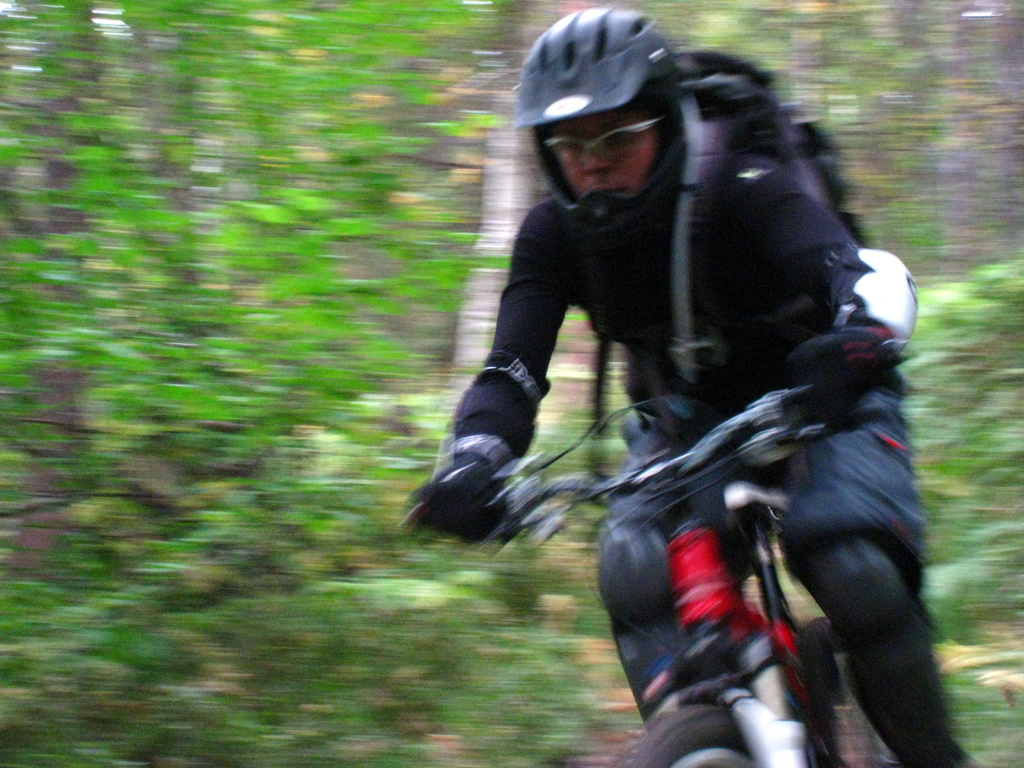Person: (409, 6, 975, 768)
